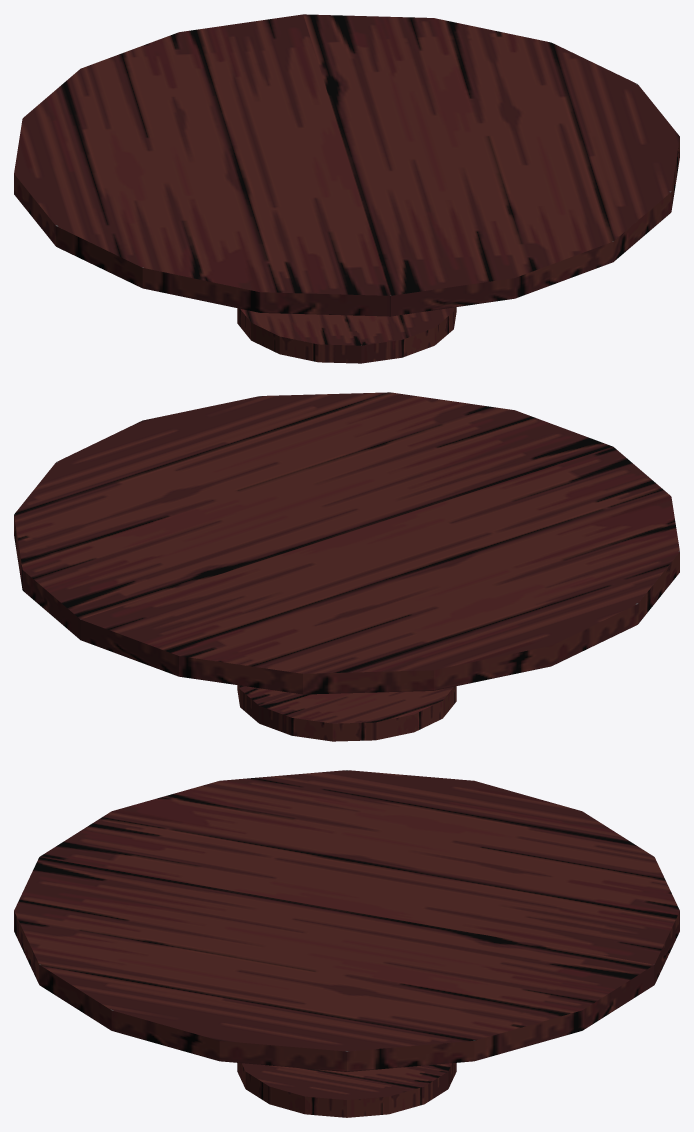
File: Table.fbx
3 renders of one model, top to bottom at view 1: azimuth 30°, elevation 25°; view 2: azimuth 150°, elevation 25°; view 3: azimuth 270°, elevation 25°, orthographic.
Parts seen in each view (by area): view 1: Table; view 2: Table; view 3: Table.
Boxes of the visible parts, x1,y1,x2,y2 form: Table: (14,14,679,363); Table: (14,392,679,741); Table: (14,770,679,1117).
Size of the model in its own units: 159 by 42.33 by 159.
Materials: 1 (1 with a texture image).
